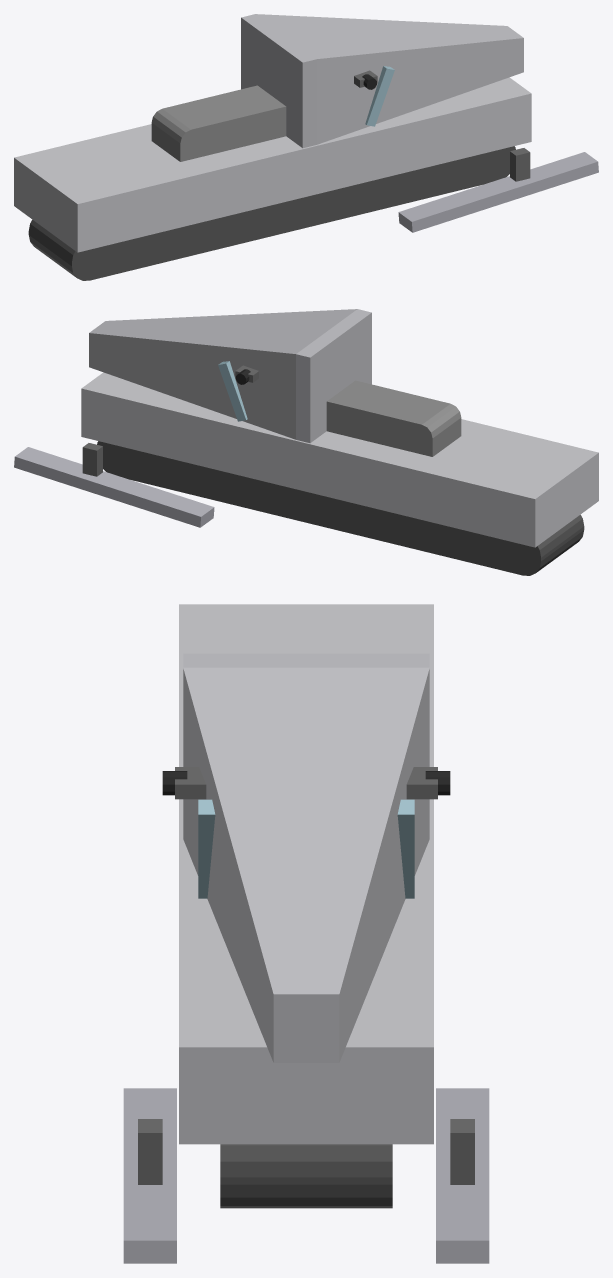
Rendered from snowmobile.obj.
3 renders of one model, top to bottom at view 1: azimuth 30°, elevation 25°; view 2: azimuth 150°, elevation 25°; view 3: azimuth 270°, elevation 25°, orthographic. The views are drawn at different scales.
Bounding box in the file's own units: 2.85 × 0.9798 × 0.89.
